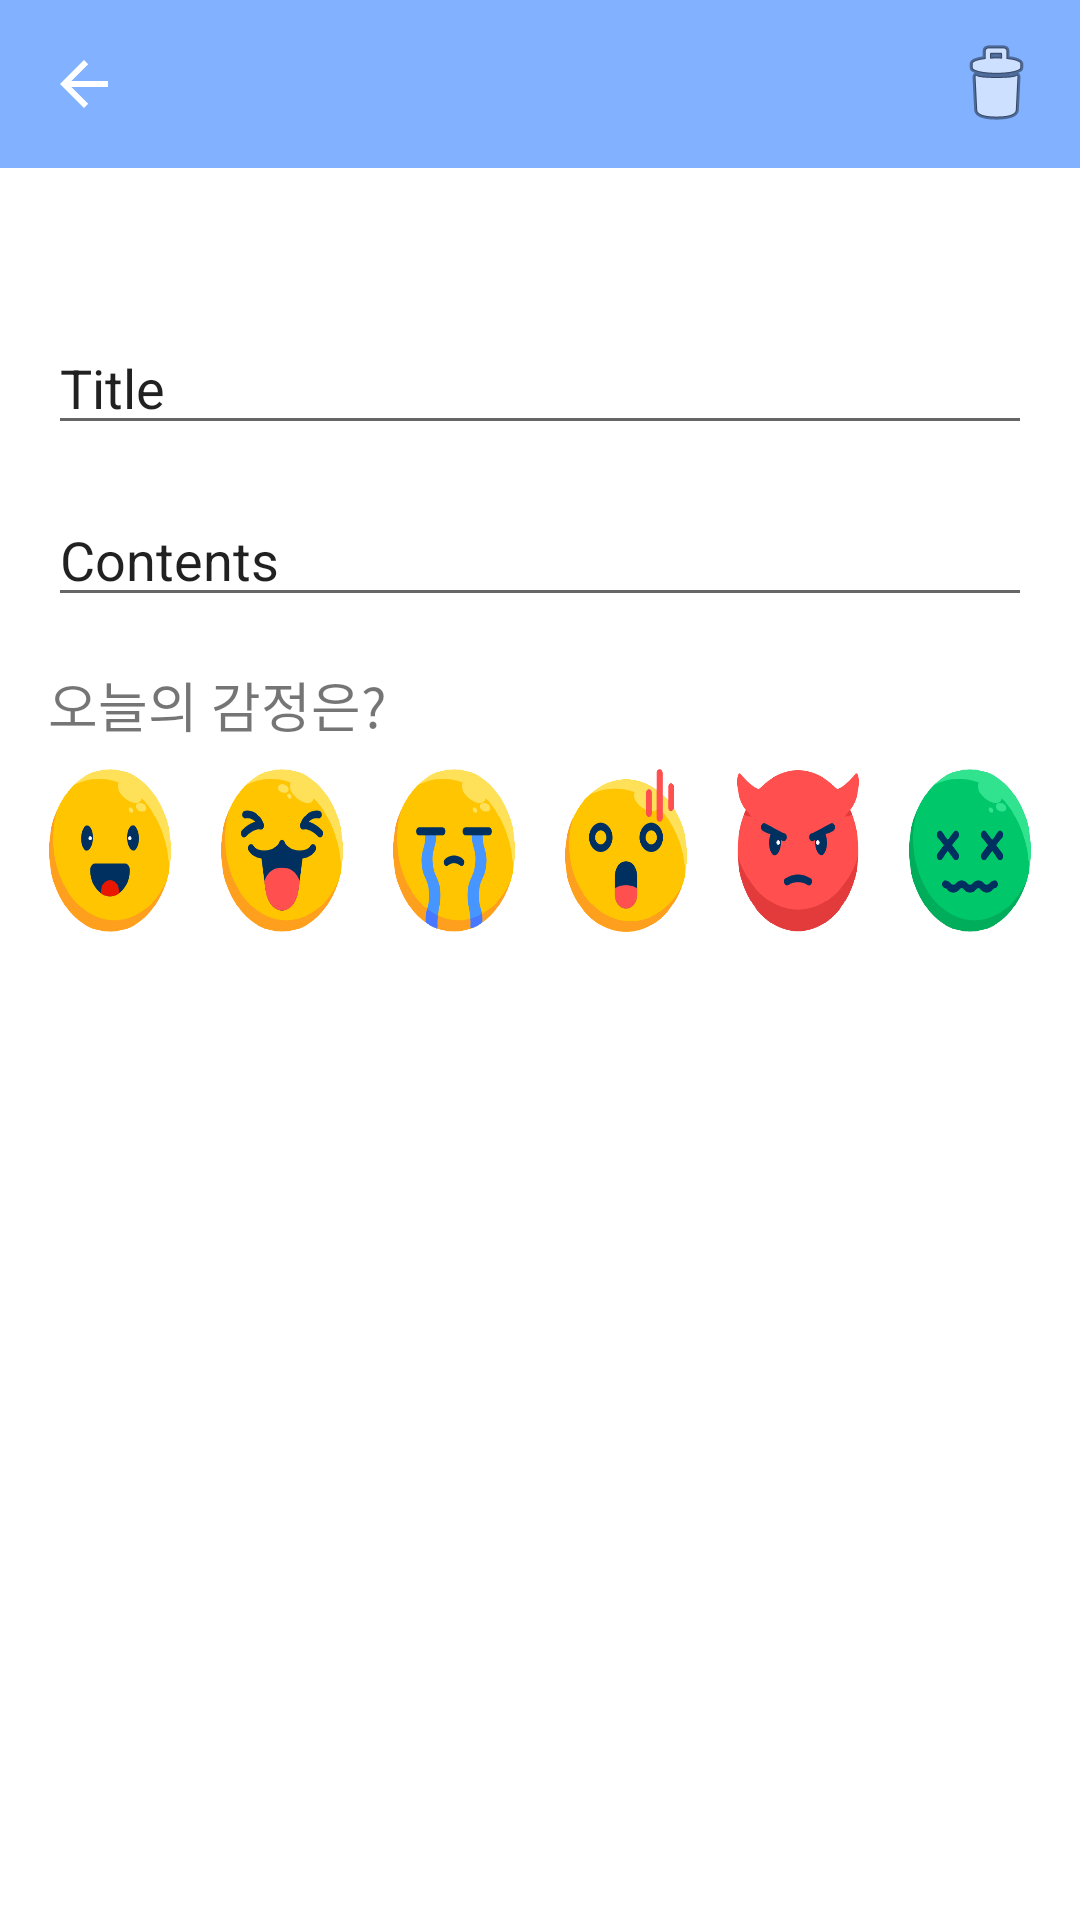

Icons on this 1080px×1920px Android screen, each with its box as (x1=x1, y1=y1, x2=x2, y2=y2):
delete: (x1=969, y1=45, x2=1024, y2=120)
